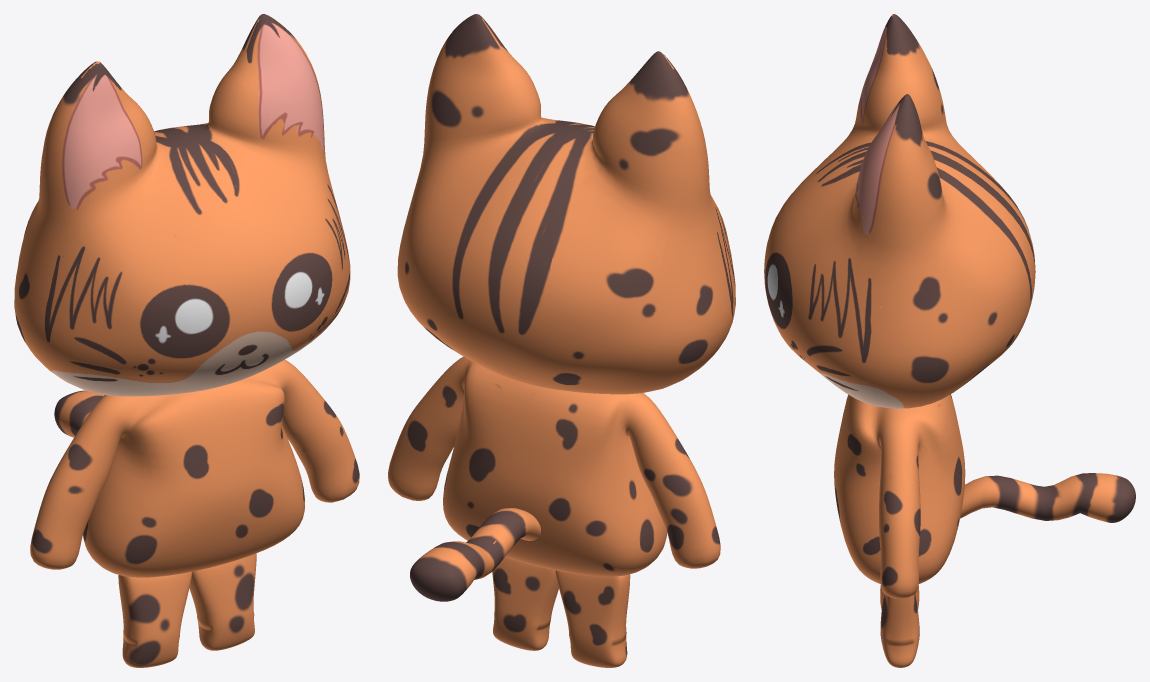
Rendered from CatPlayer1.fbx.
3 renders of one model, left to right at view 1: azimuth 30°, elevation 25°; view 2: azimuth 150°, elevation 25°; view 3: azimuth 270°, elevation 25°, orthographic. The views are drawn at different scales.
Visible parts, largest first — view 1: Body Mesh; view 2: Body Mesh; view 3: Body Mesh.
Part boxes in pixels (x1,y1,x2,y2): Body Mesh: (14, 14, 359, 667); Body Mesh: (388, 14, 735, 667); Body Mesh: (764, 14, 1135, 667).
Size of the model in its own units: 83.25 by 150 by 86.22.
